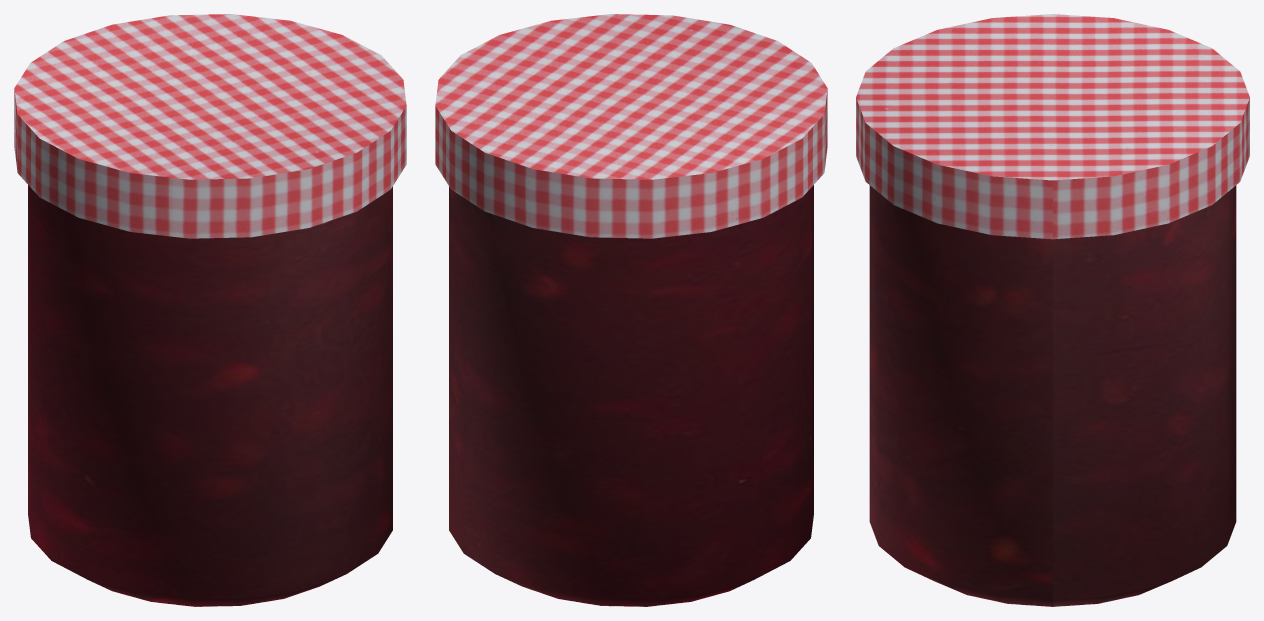
Rendered from jam_pot.FBX.
3 views of the same model, side by side, from view 1: azimuth 30°, elevation 25°; view 2: azimuth 150°, elevation 25°; view 3: azimuth 270°, elevation 25° (orthographic).
Visible parts, largest first — view 1: jam_pot; view 2: jam_pot; view 3: jam_pot.
Part boxes in pixels (x1,y1,x2,y2): jam_pot: [14, 14, 406, 606]; jam_pot: [435, 14, 827, 606]; jam_pot: [856, 14, 1249, 606].
Bounding box in the file's own units: 46.05 × 57.79 × 46.05.
Materials: 1 (1 with a texture image).
